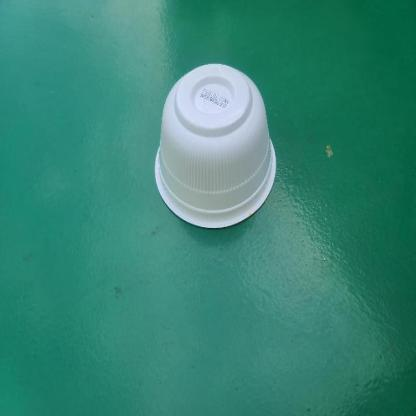Glass Cup: (154, 62, 278, 229), (155, 64, 276, 228)
